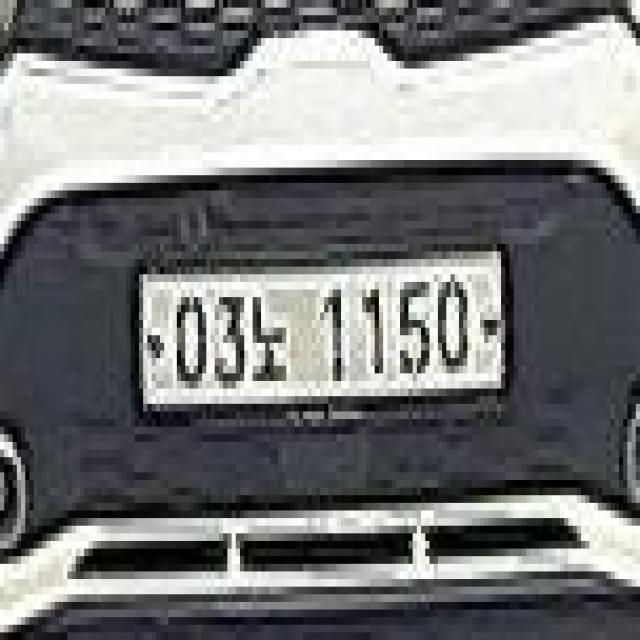illegal_plate: (132, 243, 513, 430)
